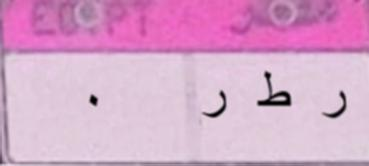0: (70, 86, 115, 120)
Taa: (249, 68, 294, 119)
raa: (196, 86, 240, 132), (310, 82, 355, 126)
